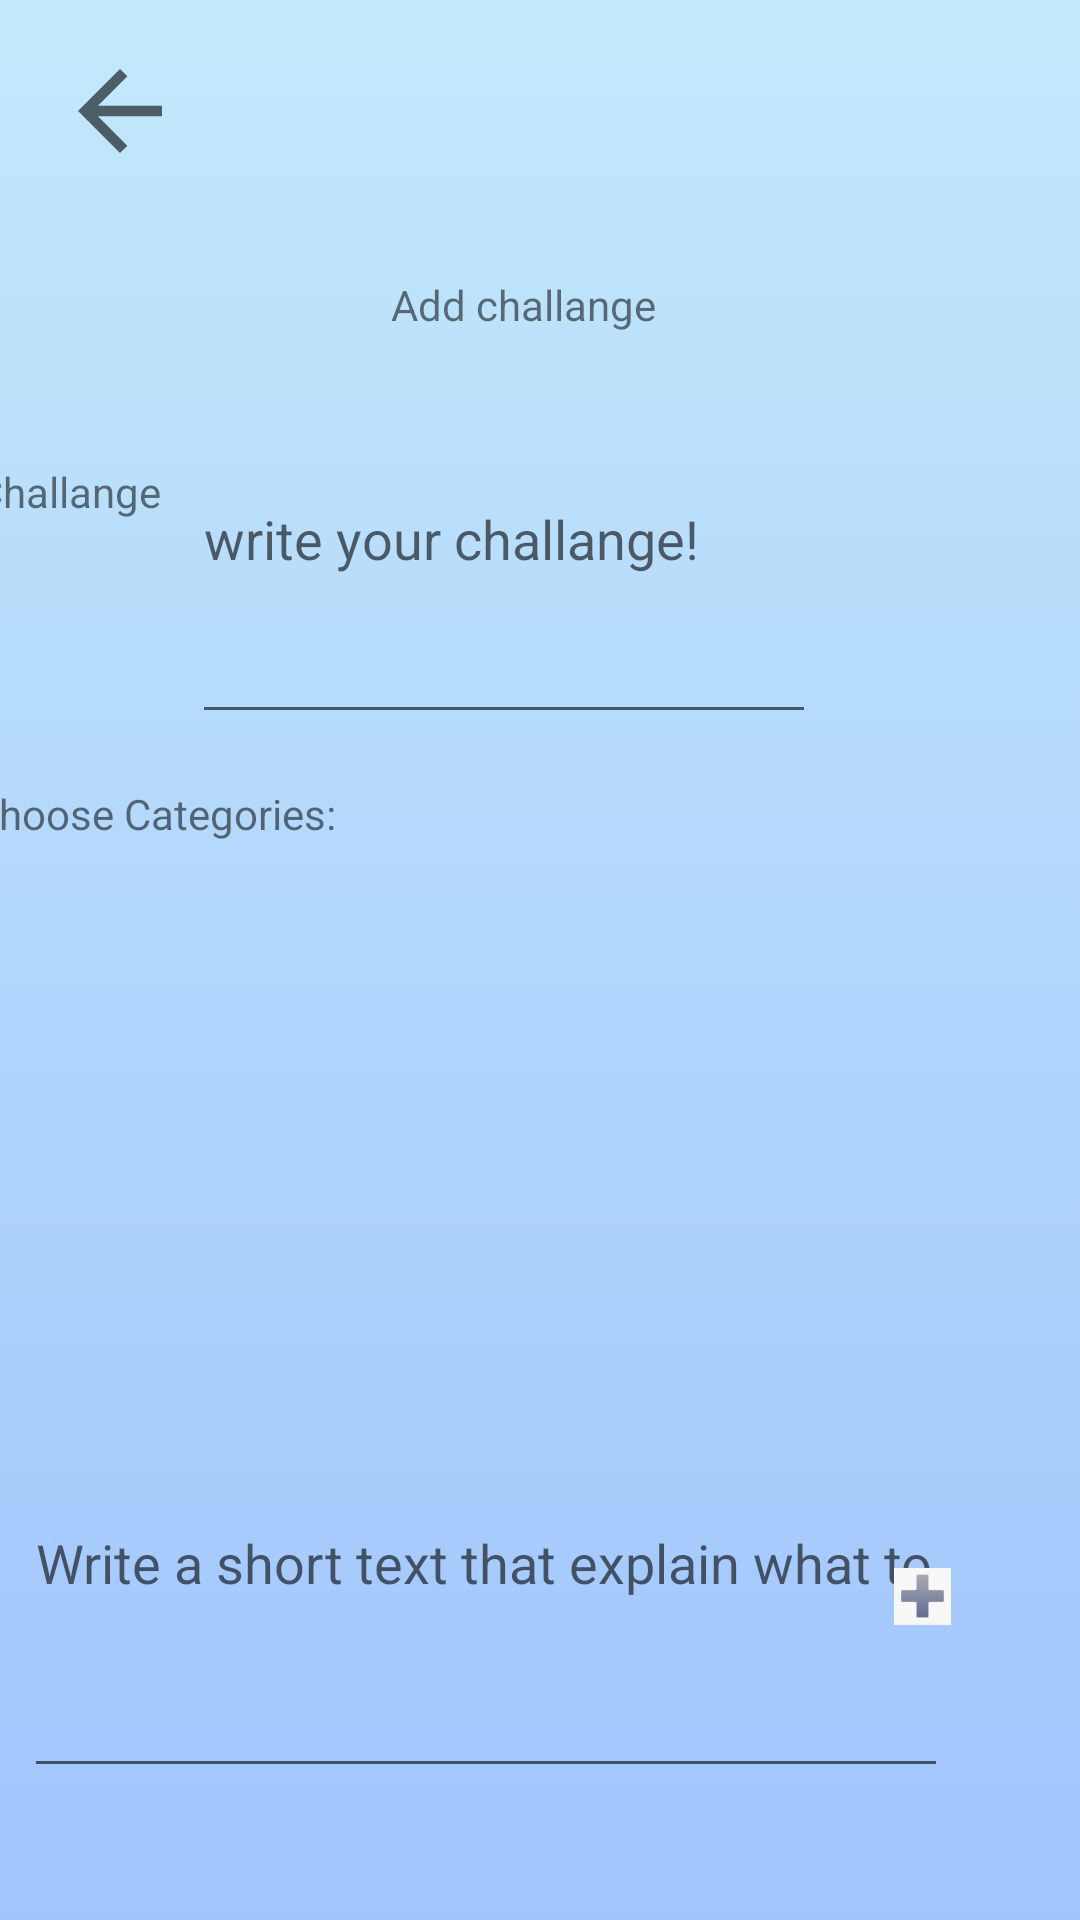

Icon click points for this 1080w x 1920h phone screenshot, format (x,y):
plus: (922,1595)
